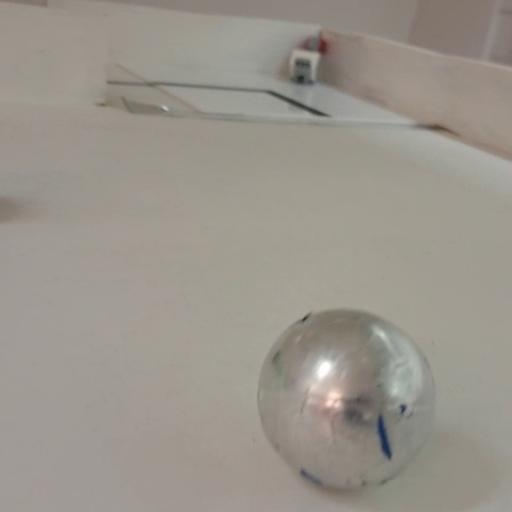alive: (252, 303, 438, 494)
